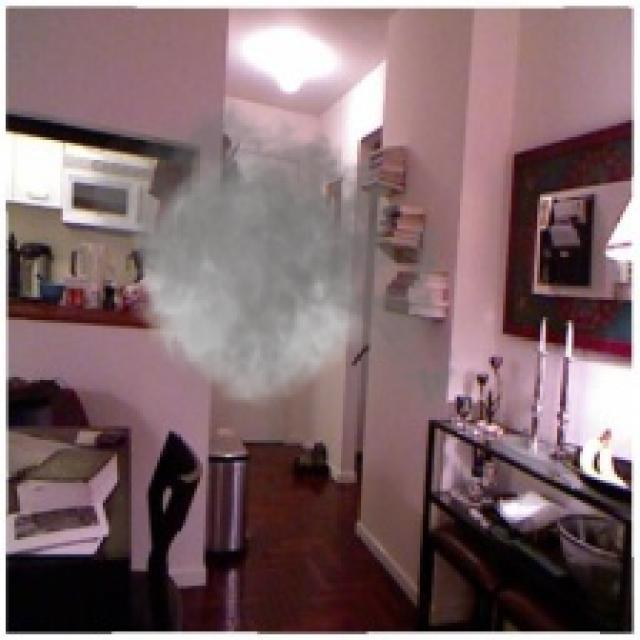Smoke: (74, 80, 469, 474)
